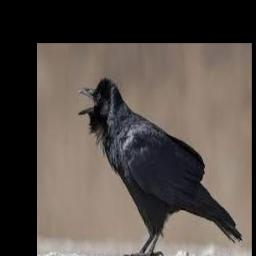Crow: (77, 77, 242, 256)
